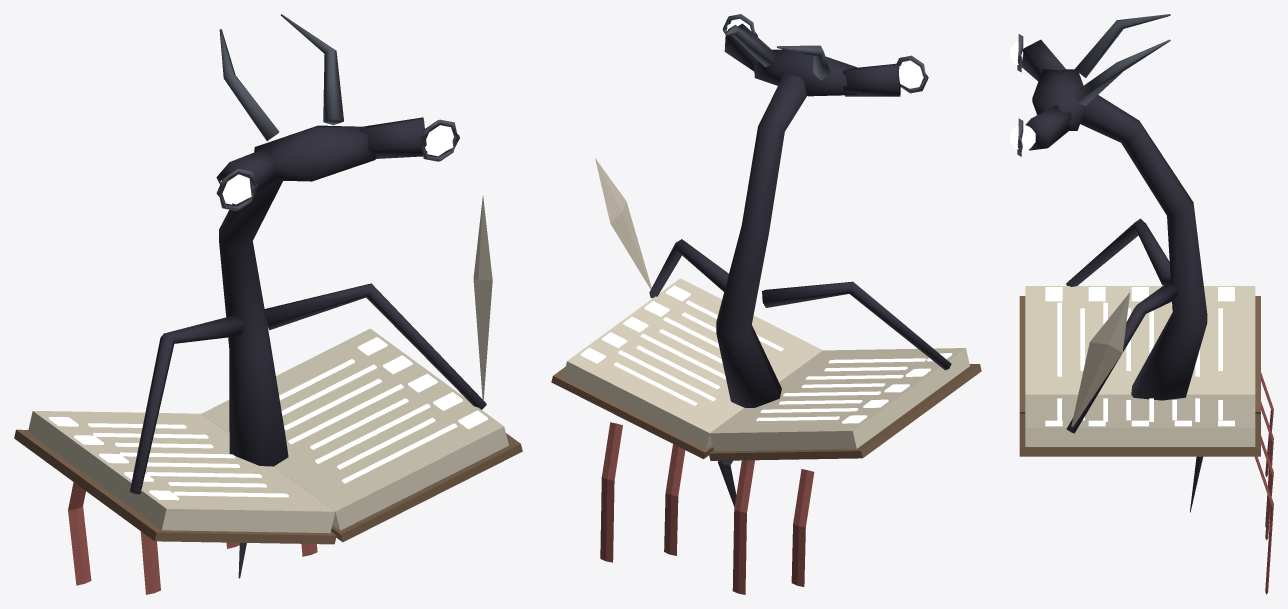
File: imp-glossator.glb
The picture shows the model from 3 angles, left to right: view 1: azimuth 30°, elevation 25°; view 2: azimuth 150°, elevation 25°; view 3: azimuth 270°, elevation 25°; orthographic projection. The views are drawn at different scales.
Visible parts, largest first — view 1: imp-glossator; view 2: imp-glossator; view 3: imp-glossator.
Part boxes in pixels (bbox=[...]): imp-glossator: bbox=[14, 14, 522, 594]; imp-glossator: bbox=[551, 14, 981, 594]; imp-glossator: bbox=[1010, 14, 1273, 594].
Size of the model in its own units: 0.7791 by 1.14 by 0.528.
